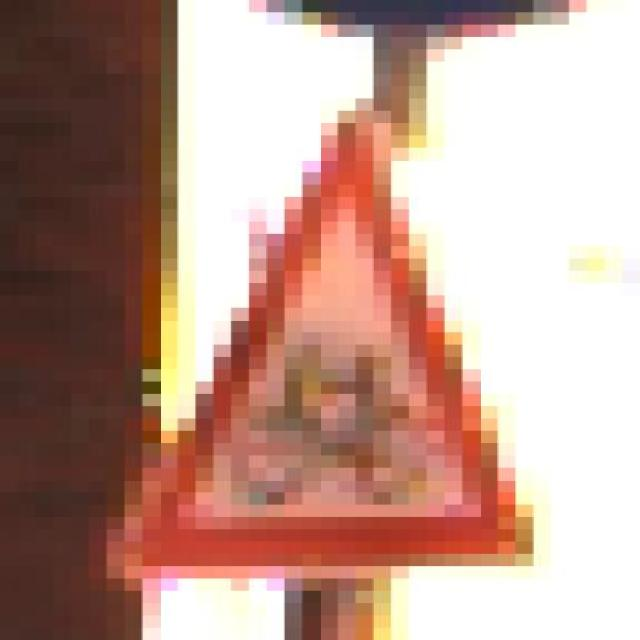CYCLE ROUTE AHEAD WARNING: (106, 111, 569, 578)
